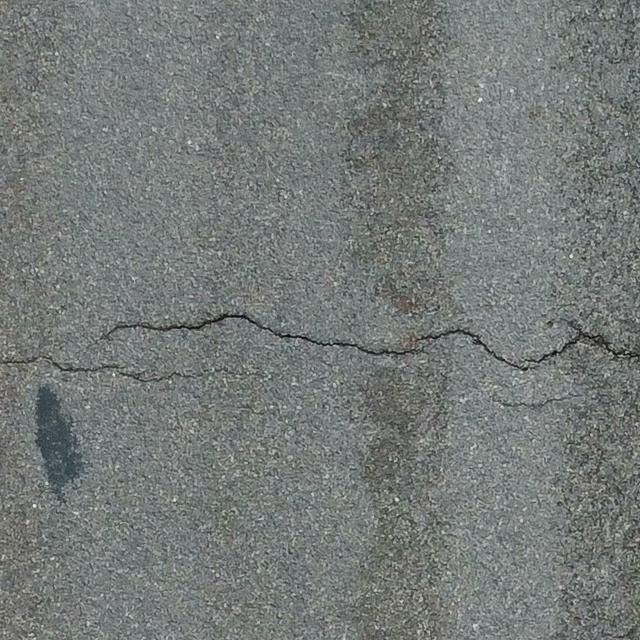TransverseCrack: (100, 306, 640, 371), (1, 354, 234, 379)
